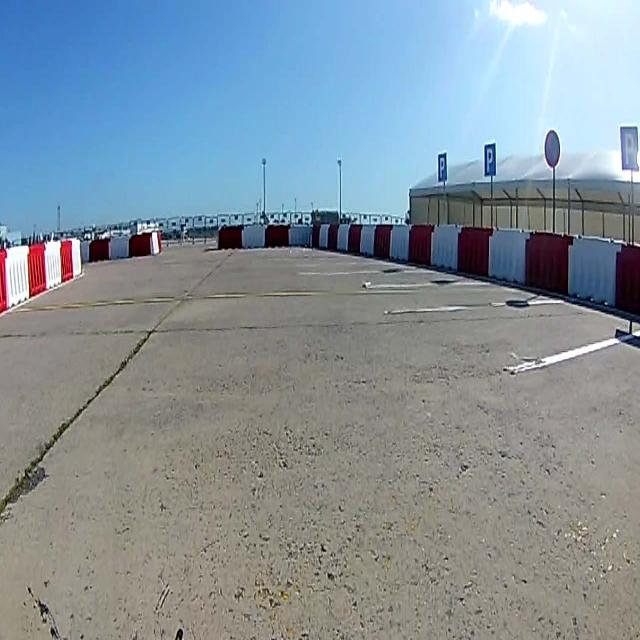park: (620, 126, 640, 173), (483, 143, 496, 176), (437, 150, 447, 182)
parkyasak: (544, 129, 560, 167)
